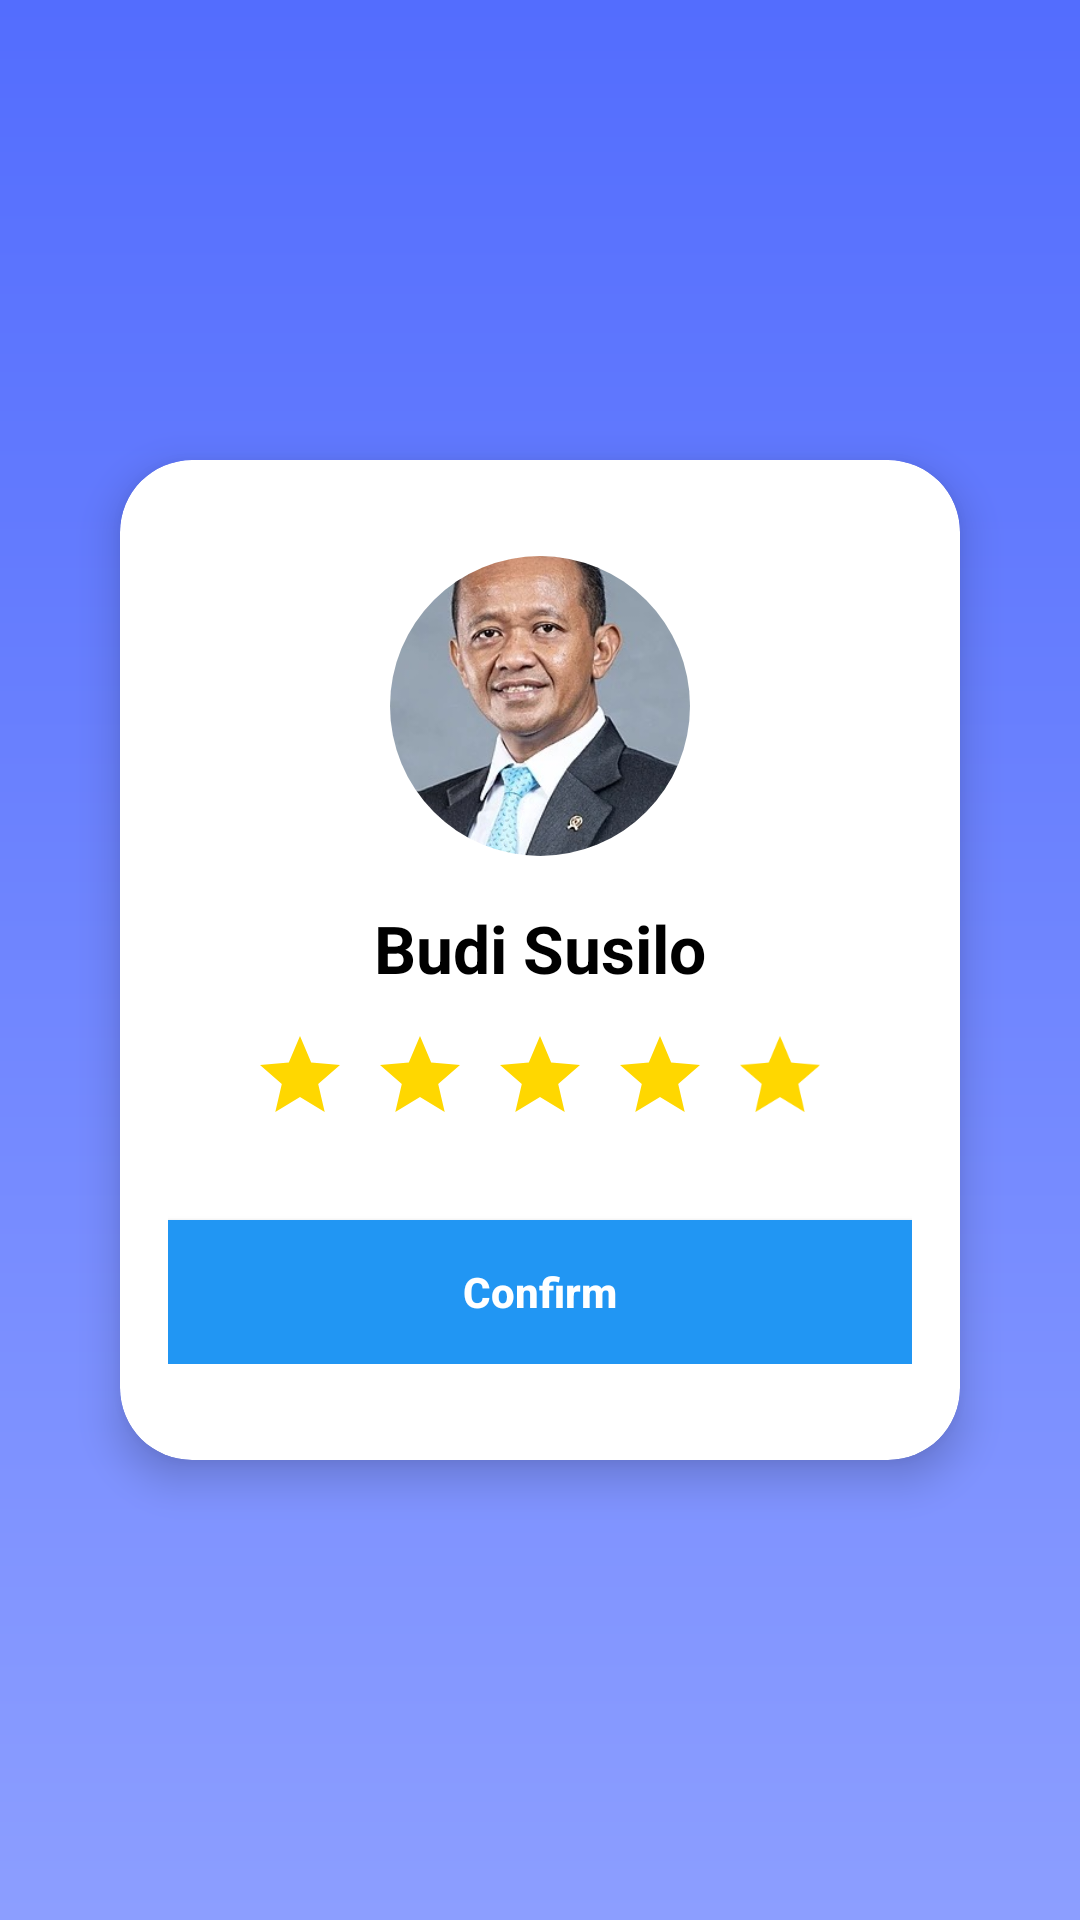

Screen size 1080 × 1920. Icon name, then its center in pixels as [x,y]:
Driver Photo: [540,706]
Rating Star 1: [300,1074]
Rating Star 2: [420,1074]
Rating Star 3: [540,1074]
Rating Star 4: [660,1074]
Rating Star 5: [780,1074]
